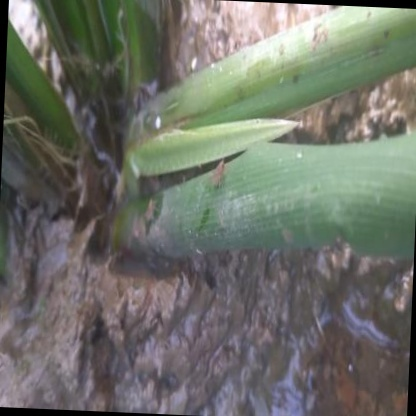Brown_hopper: (206, 152, 227, 193)
